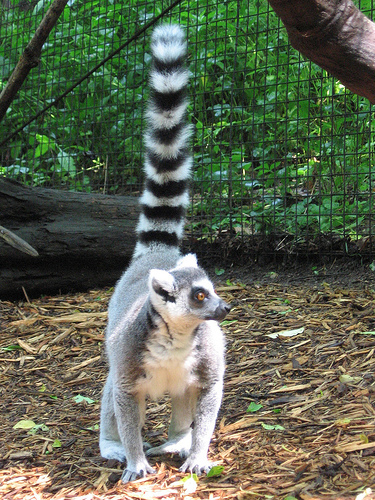cat: (97, 23, 230, 493)
